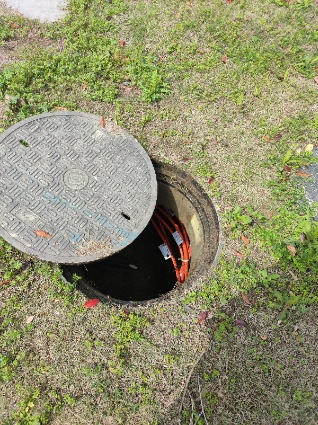uncovered: (1, 111, 222, 309)
